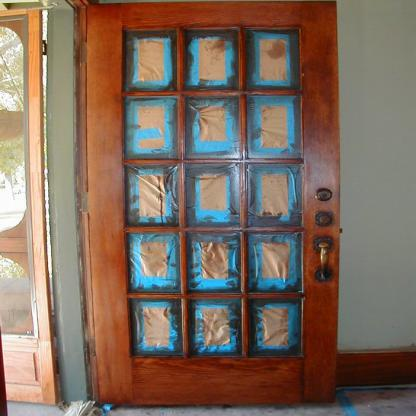door: (76, 6, 334, 400)
hinged: (80, 192, 90, 214), (80, 40, 88, 62), (90, 336, 96, 356)
